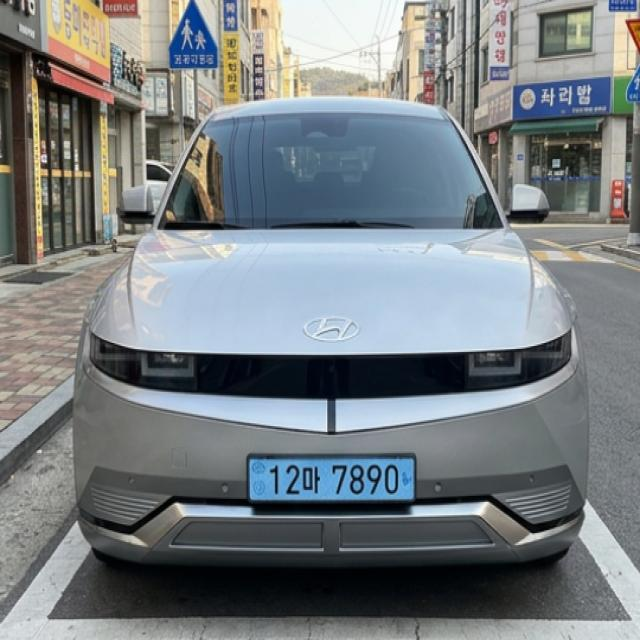car: (225, 445, 435, 524)
carev: (397, 454, 423, 507), (246, 453, 268, 507)
